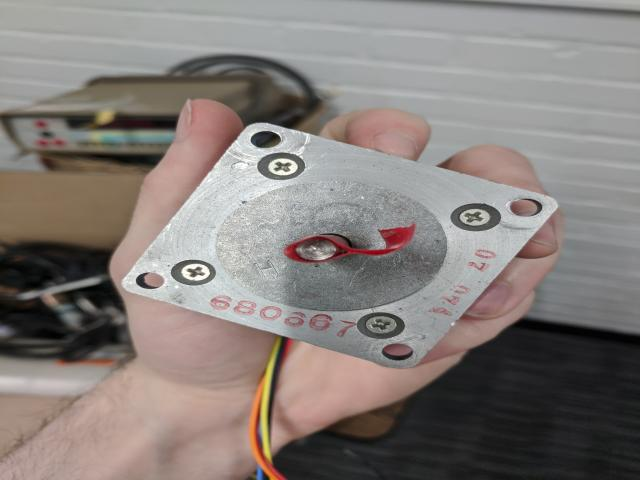CRS: (361, 314, 401, 336), (177, 262, 213, 282), (267, 159, 300, 177), (456, 208, 489, 225)
